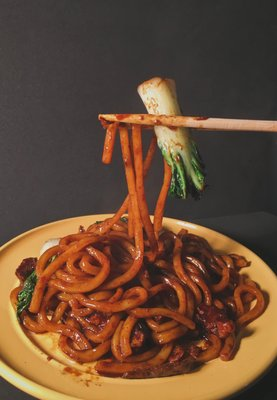pizza: (102, 122, 117, 165)
